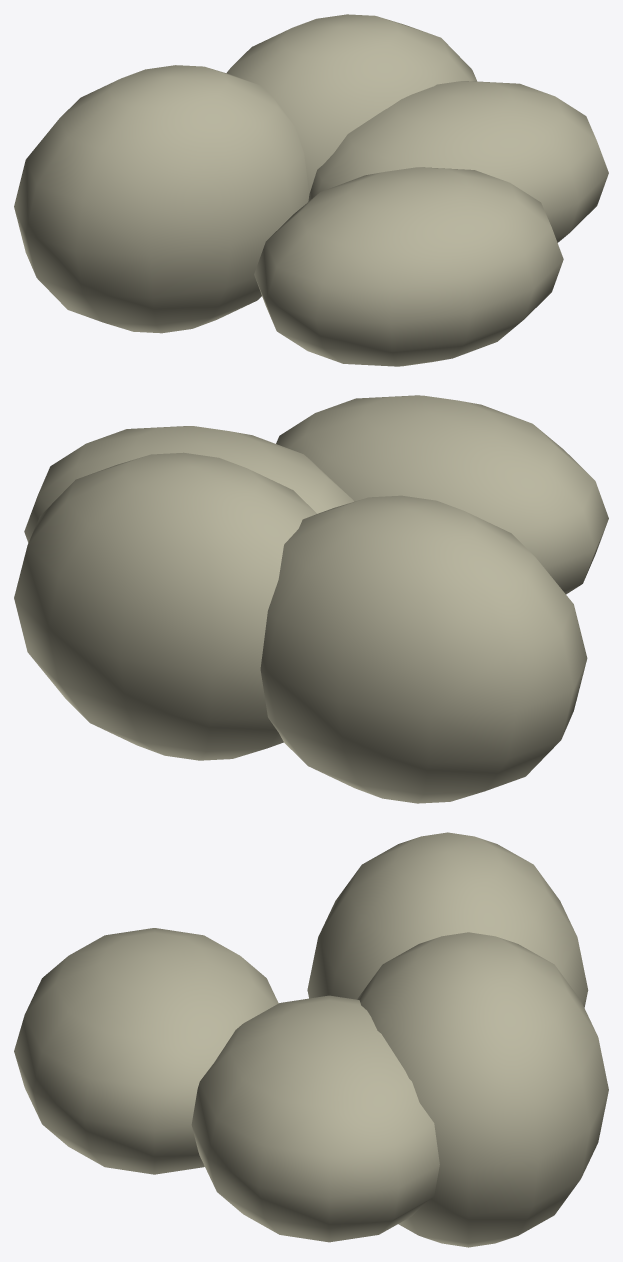
File: payload_fired_ceramic_a.obj
The picture shows the model from 3 angles, top to bottom: view 1: azimuth 30°, elevation 25°; view 2: azimuth 150°, elevation 25°; view 3: azimuth 270°, elevation 25°; orthographic projection. The views are drawn at different scales.
Visible parts, largest first — view 1: payload_piece.049, payload_piece.050, payload_piece.048, payload_piece.051; view 2: payload_piece.049, payload_piece.051, payload_piece.050, payload_piece.048; view 3: payload_piece.051, payload_piece.048, payload_piece.050, payload_piece.049.
Part boxes in pixels (bbox=[...]): payload_piece.049: bbox=[14, 65, 309, 333]; payload_piece.050: bbox=[254, 167, 563, 366]; payload_piece.048: bbox=[308, 81, 608, 242]; payload_piece.051: bbox=[226, 14, 477, 193]; payload_piece.049: bbox=[260, 495, 587, 803]; payload_piece.051: bbox=[14, 452, 316, 760]; payload_piece.050: bbox=[276, 395, 608, 594]; payload_piece.048: bbox=[24, 426, 353, 542]; payload_piece.051: bbox=[357, 932, 608, 1247]; payload_piece.048: bbox=[191, 995, 439, 1242]; payload_piece.050: bbox=[14, 928, 278, 1174]; payload_piece.049: bbox=[307, 832, 588, 1007].
Bounding box in the file's own units: 0.5806 × 0.26 × 0.5085.
